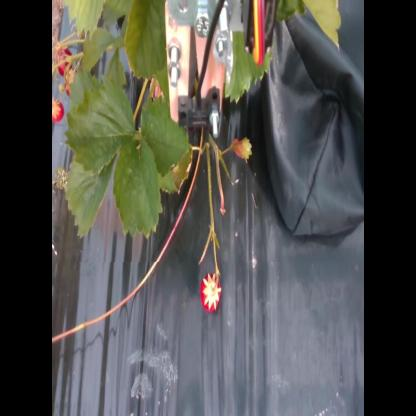ripe: (198, 269, 223, 313), (55, 44, 72, 75), (62, 70, 80, 97), (51, 96, 67, 122)
